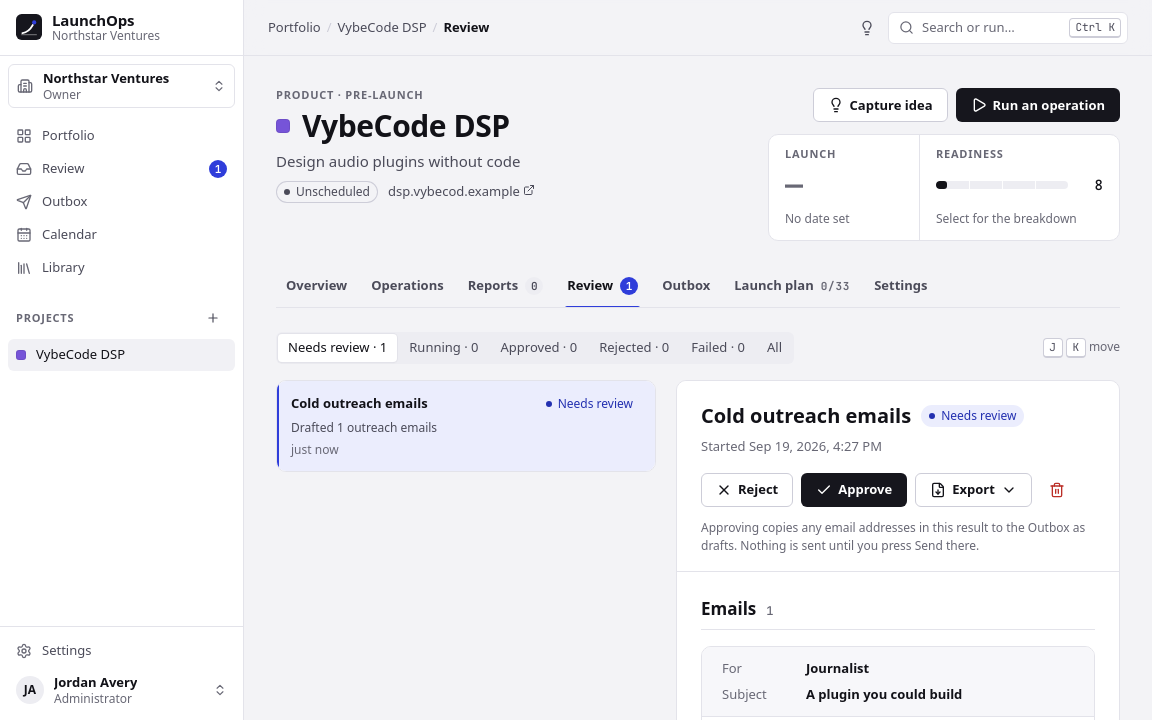
it: Review › opens the first result and explains what approving an outreach result does
Expected: the text "A plugin you could build" is shown, [806,685,962,703]
Expected: the text "Approving copies any email addresses in this result to the Outbox as drafts" is shown, [701,519,1085,554]
Click the button "Approve".
click(854, 490)  # box [801,473,907,507]
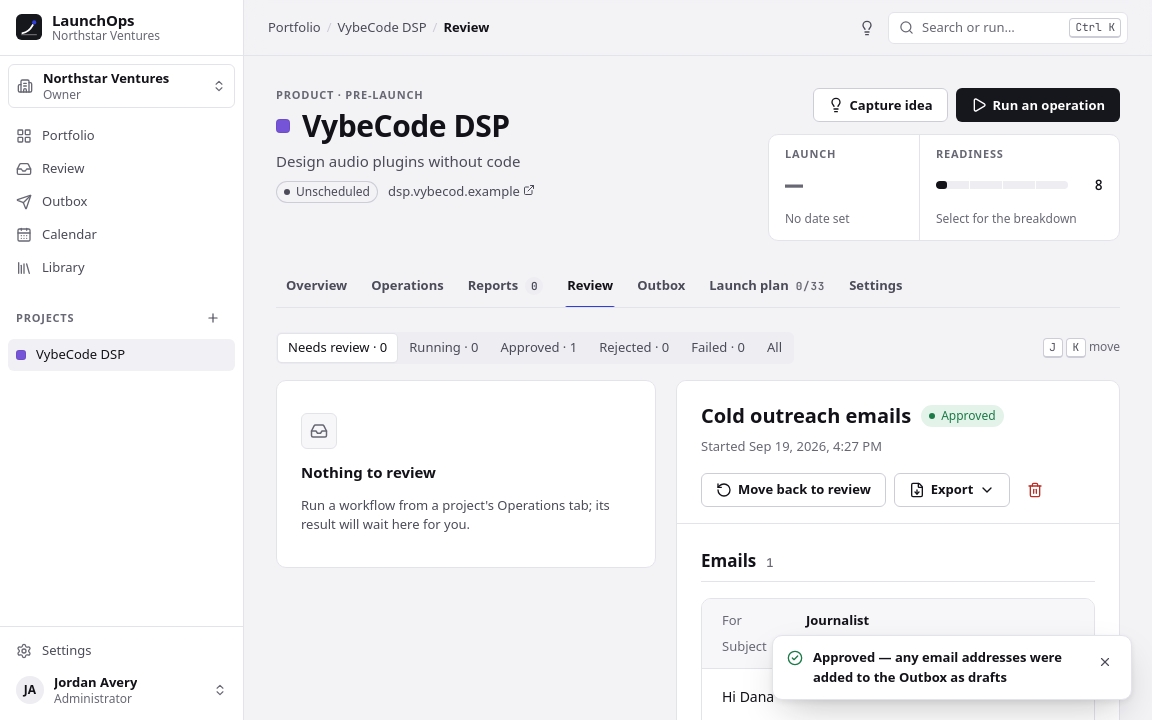
Expected: the text "Approved — any email addresses were added to the Outbox as drafts" is shown, [813,648,1081,687]
